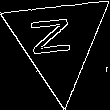N_E: (33, 18, 83, 64)
